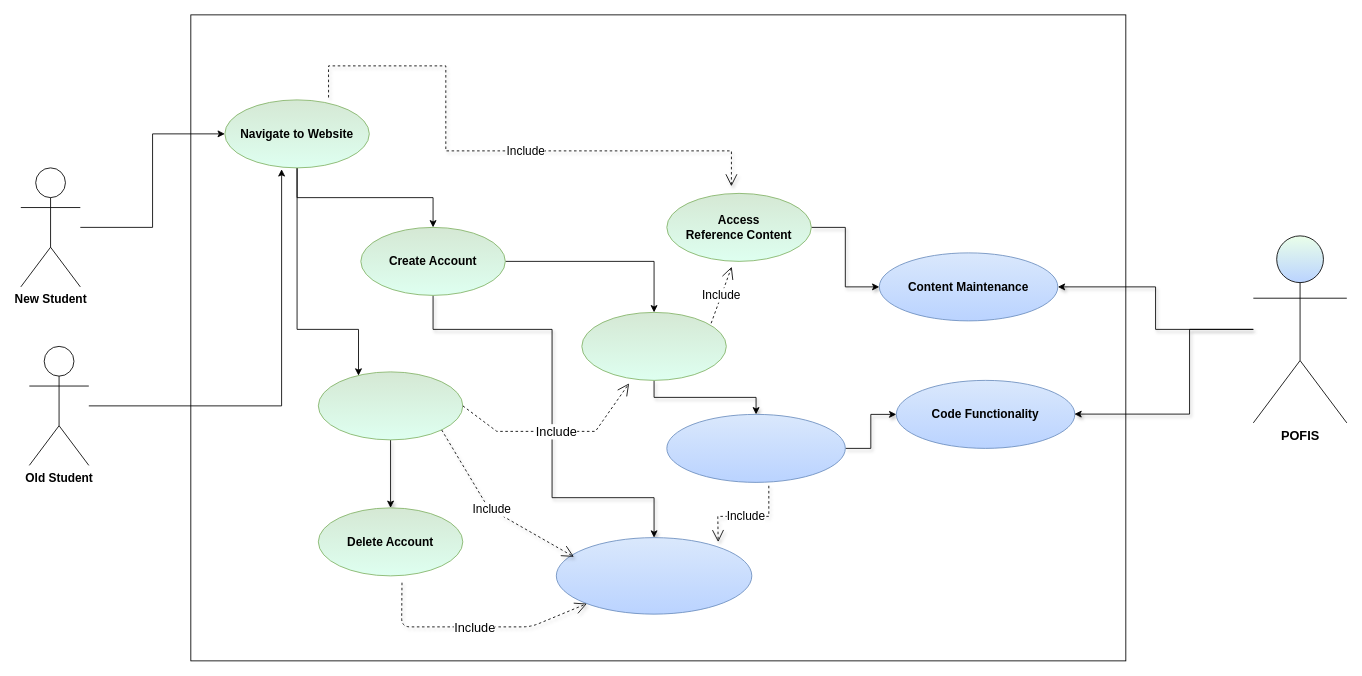
Some shapes in this 1362 by 676 pixel diagram are drawn without their labels. The centre of each missing label's shape, as x and y in pixels:
Access Tutorials: [653,346]
Login: [390,405]
Tutorial Process: [755,448]
User Credentials: [653,575]
